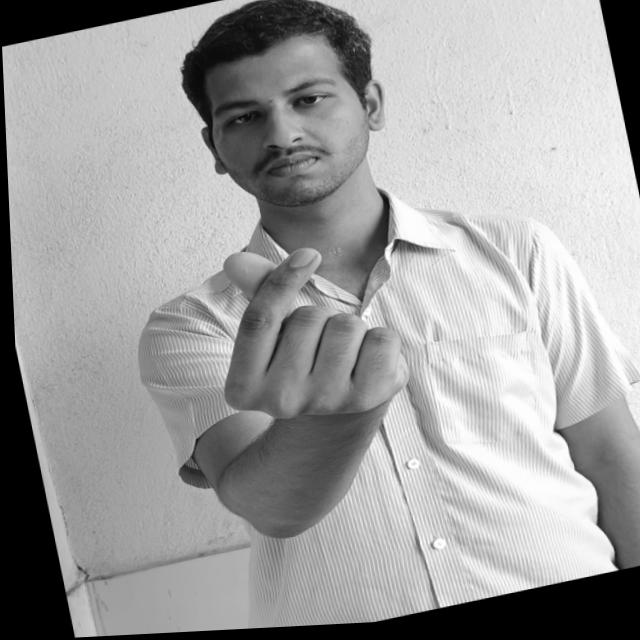Grattitude: (193, 220, 424, 453)
